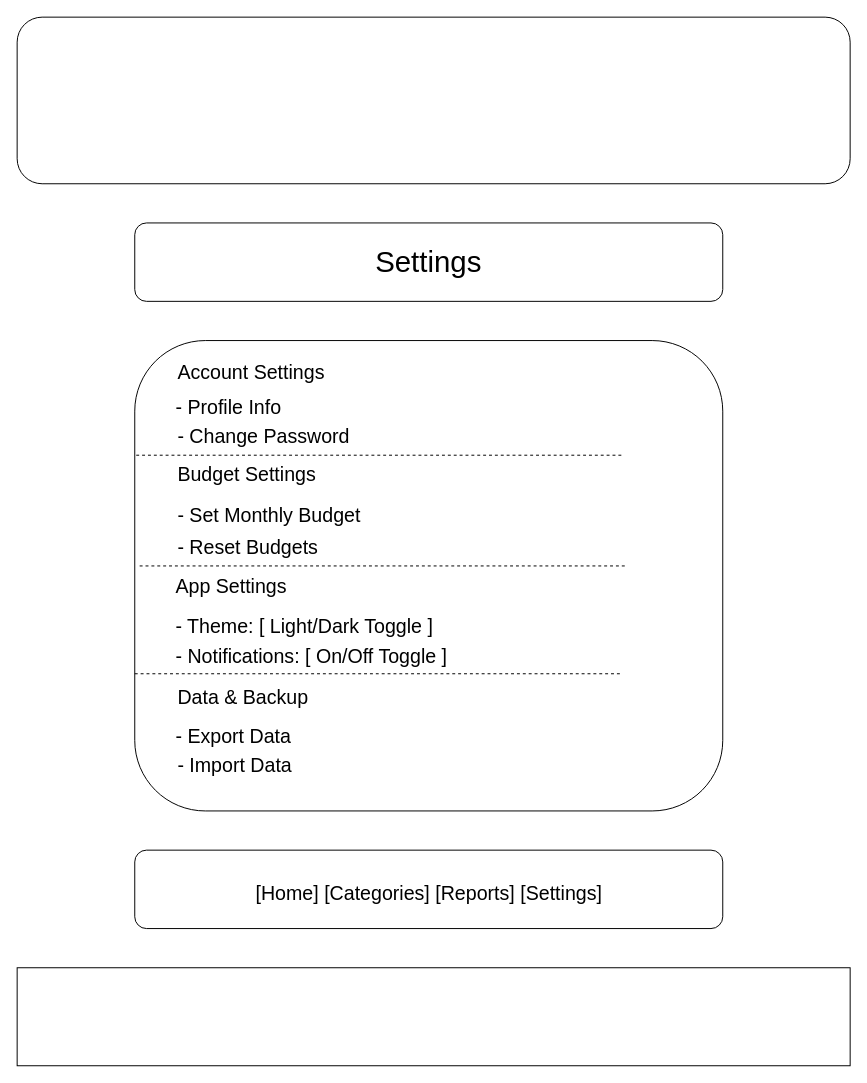
Image size: 867x1083. Some labels were removed from this diagram. Each missing label, with the centre of its shape:
"Lorem Ipsum" goes at pixel 433 1016.
"TrackIt" goes at pixel 433 100.
